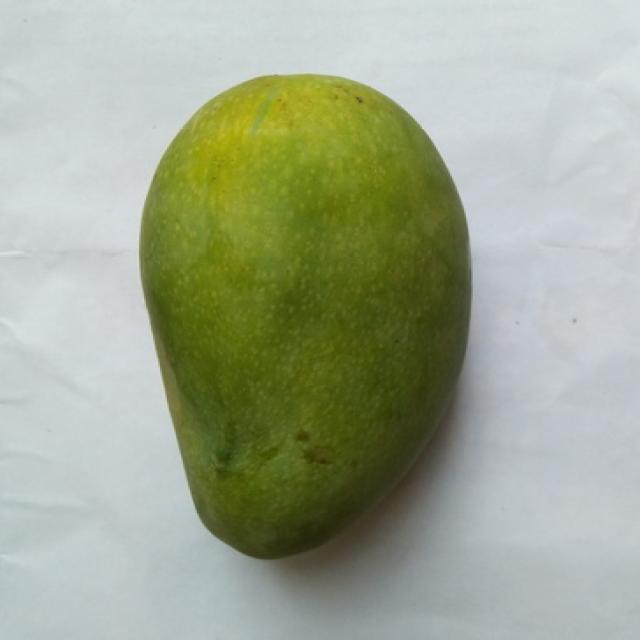Mango: (142, 76, 469, 557)
